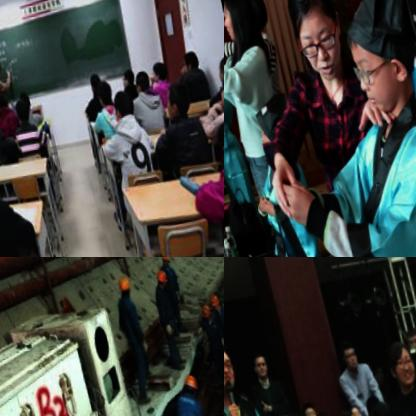head: (335, 0, 416, 124), (278, 0, 347, 87), (376, 342, 413, 395), (224, 0, 255, 51), (233, 0, 270, 37), (156, 84, 186, 128), (205, 115, 224, 178), (105, 88, 127, 125), (246, 349, 267, 386), (172, 52, 196, 84), (6, 96, 28, 129), (207, 75, 224, 117), (12, 86, 33, 118), (89, 79, 110, 111), (336, 344, 357, 374), (127, 71, 148, 100), (113, 67, 132, 94), (211, 52, 224, 87), (400, 331, 416, 359), (82, 72, 98, 99), (146, 63, 163, 88), (294, 402, 314, 416), (341, 404, 360, 416), (0, 91, 8, 117), (332, 407, 354, 416)
helmet: (175, 373, 197, 403), (111, 276, 129, 303), (200, 294, 217, 320), (149, 272, 165, 294), (192, 305, 207, 325), (154, 257, 168, 272)
